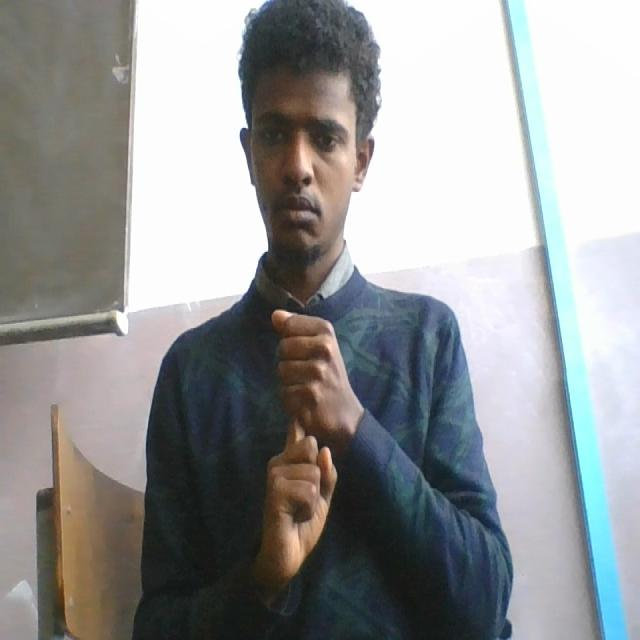meyaz: (256, 299, 347, 606)
